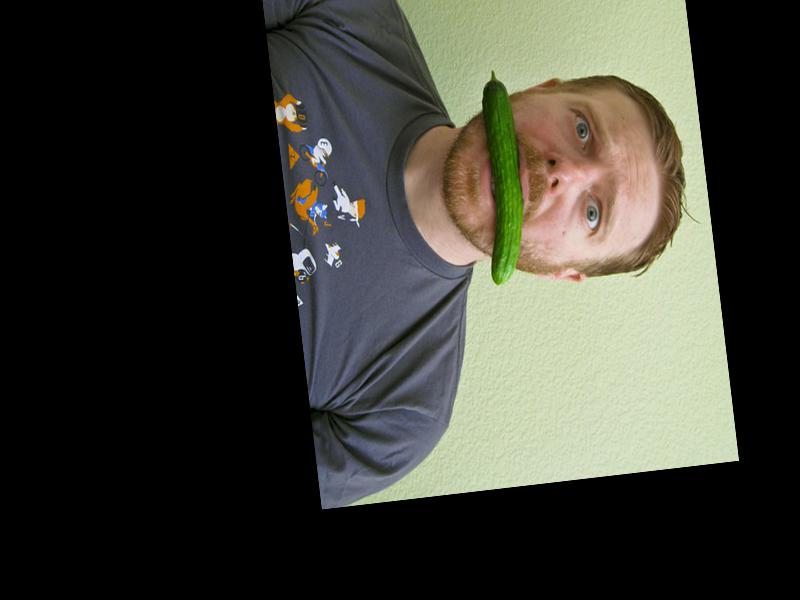Cucumber: (467, 68, 532, 288)
